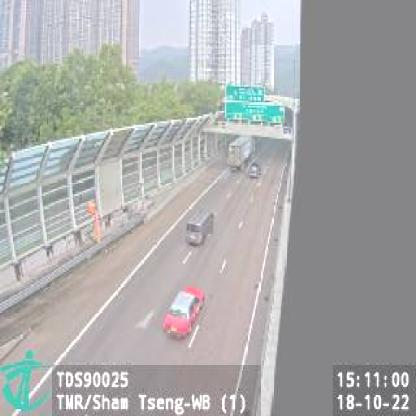Car: (162, 285, 208, 342), (184, 206, 216, 244), (247, 160, 261, 178)
Truck: (227, 133, 255, 175)
